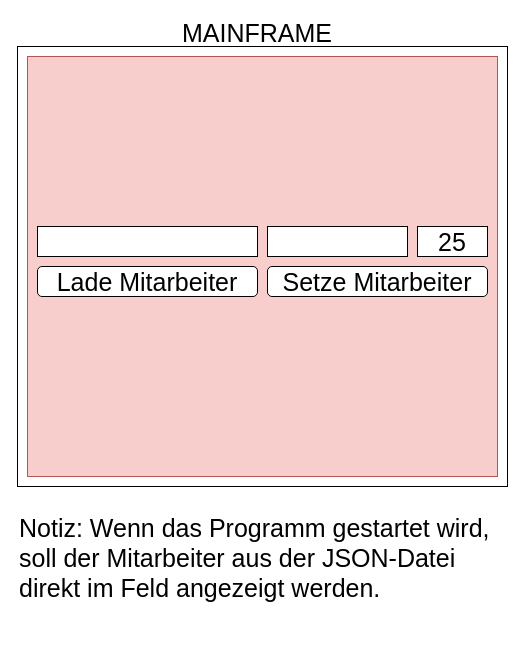
Some shapes in this 525 by 653 pixel diagram are drawn without their labels. The shapes that lost their labels are listed below. From the top down, each one's box as (x1, y1, x2, y2) in pixels, then its label:
(36, 226, 258, 256): Dieter (11)
(266, 226, 408, 256): Maria
